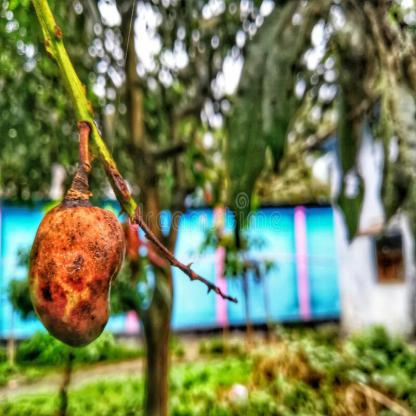mango_rotten: (24, 168, 126, 349)
